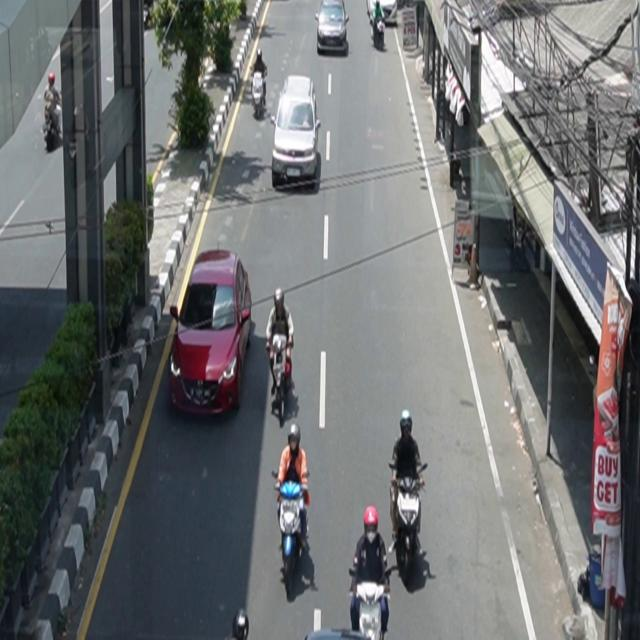car: (169, 249, 253, 419), (271, 75, 322, 190), (315, 1, 349, 54)
